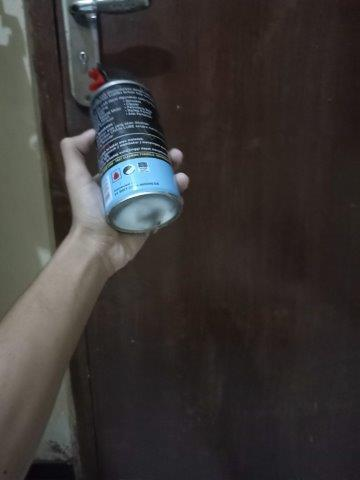kaleng: (90, 79, 183, 234)
